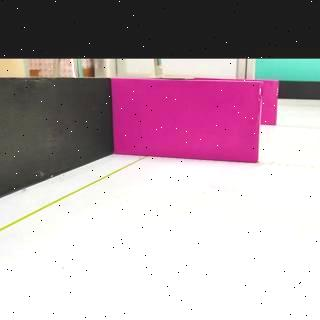xparking: (116, 80, 258, 162)
